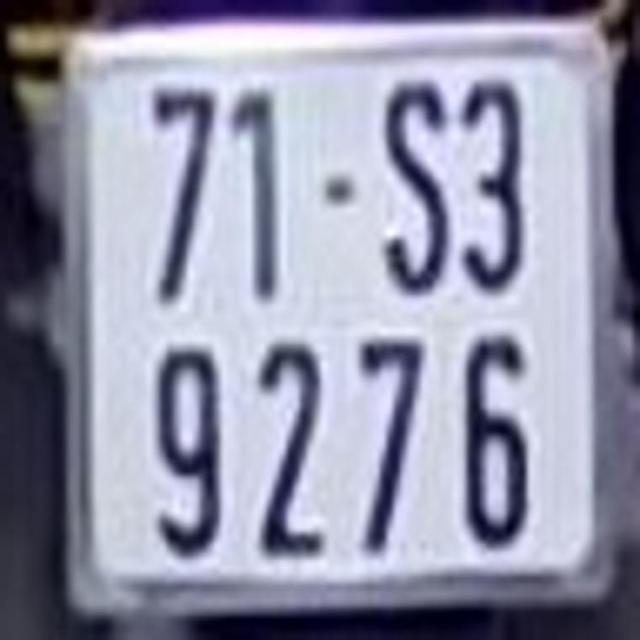1: (231, 106, 296, 297)
2: (252, 342, 328, 552)
3: (464, 85, 523, 292)
6: (463, 330, 531, 546)
7: (146, 82, 210, 306), (353, 336, 418, 546)
9: (146, 342, 224, 556)
S: (380, 90, 450, 296)
